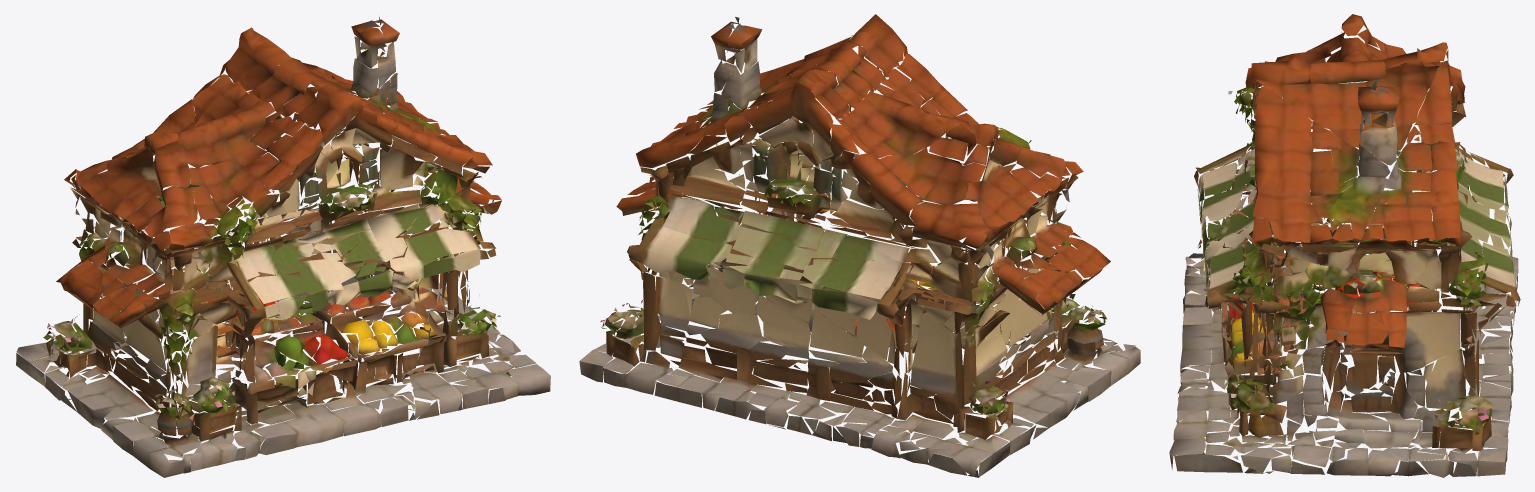
File: grocery-mobile-v2.glb
The picture shows the model from 3 angles, left to right: view 1: azimuth 30°, elevation 25°; view 2: azimuth 150°, elevation 25°; view 3: azimuth 270°, elevation 25°; orthographic projection. The views are drawn at different scales.
Visible parts, largest first — view 1: tripo_node_736910ce-1c4f-4372-8cad-5b0aba0f68fa; view 2: tripo_node_736910ce-1c4f-4372-8cad-5b0aba0f68fa; view 3: tripo_node_736910ce-1c4f-4372-8cad-5b0aba0f68fa.
Boxes of the visible parts, <box> form: tripo_node_736910ce-1c4f-4372-8cad-5b0aba0f68fa: <box>16,17,550,477</box>; tripo_node_736910ce-1c4f-4372-8cad-5b0aba0f68fa: <box>579,14,1140,477</box>; tripo_node_736910ce-1c4f-4372-8cad-5b0aba0f68fa: <box>1169,14,1520,477</box>.
Bounding box in the file's own units: 6.13 × 4.61 × 4.16.
Materials: 1 (1 with a texture image).
